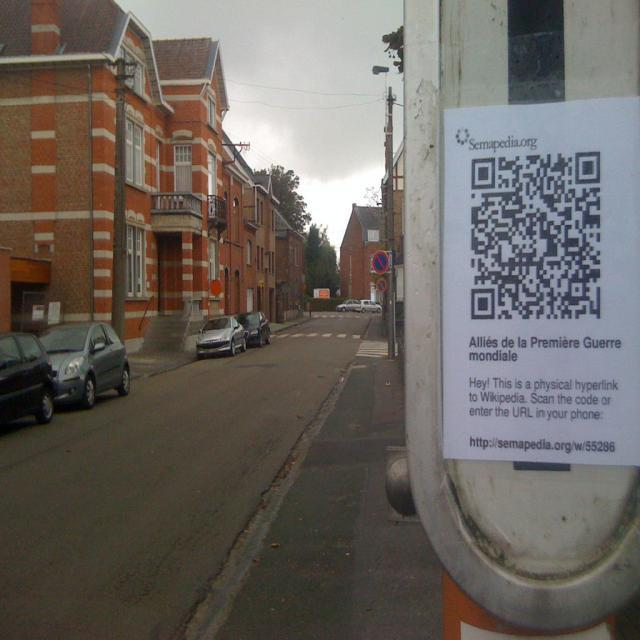qr_code: (470, 150, 602, 320)
